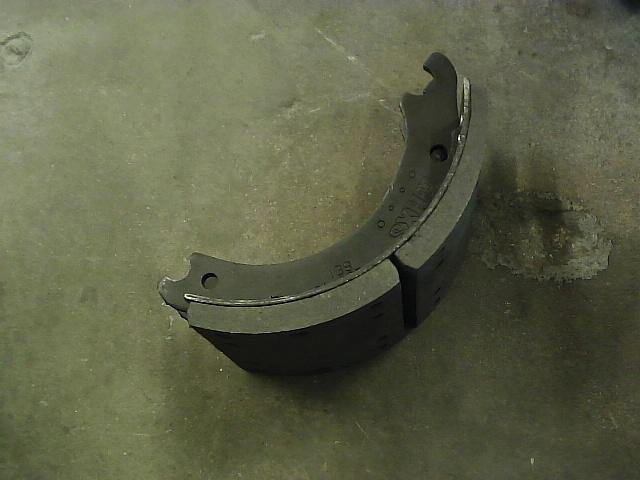brake-shoes: (157, 49, 491, 374)
